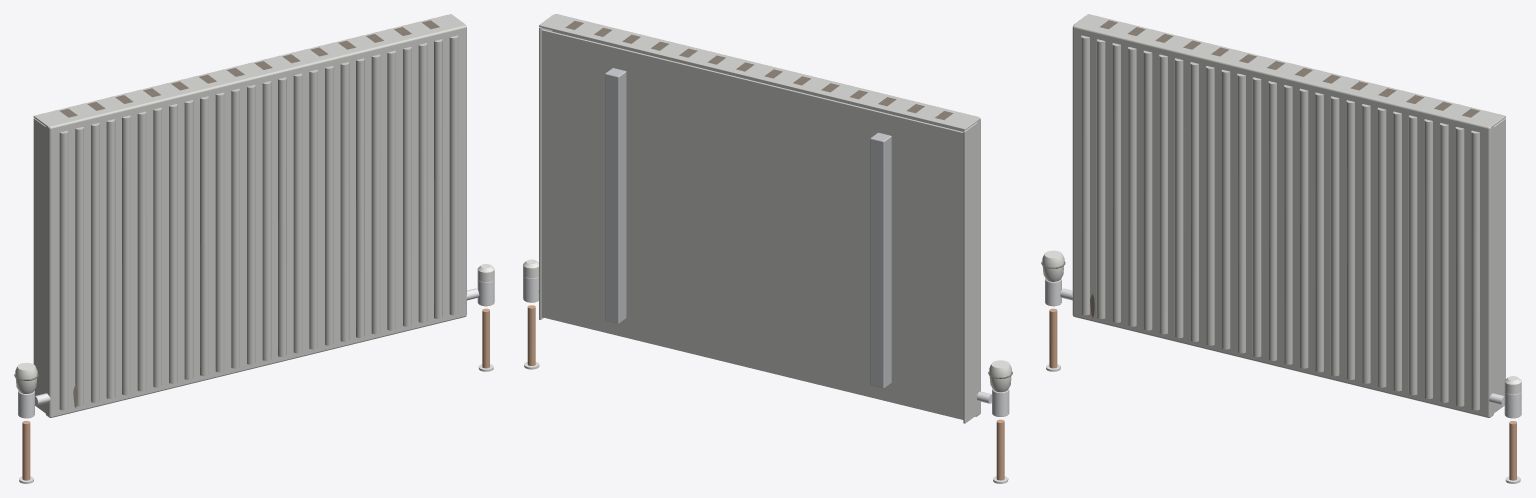
Rendered from furniture_radiator.fbx.
3 views of the same model, side by side, from view 1: azimuth 30°, elevation 25°; view 2: azimuth 150°, elevation 25°; view 3: azimuth 330°, elevation 25° (orthographic). The views are drawn at different scales.
Visible parts, largest first — view 1: furniture_radiator; view 2: furniture_radiator; view 3: furniture_radiator.
Boxes of the visible parts, bbox=[...] form: furniture_radiator: bbox=[14, 14, 494, 483]; furniture_radiator: bbox=[523, 14, 1012, 483]; furniture_radiator: bbox=[1041, 14, 1521, 483].
Bounding box in the file's own units: 1.03 × 0.7222 × 0.1027.
